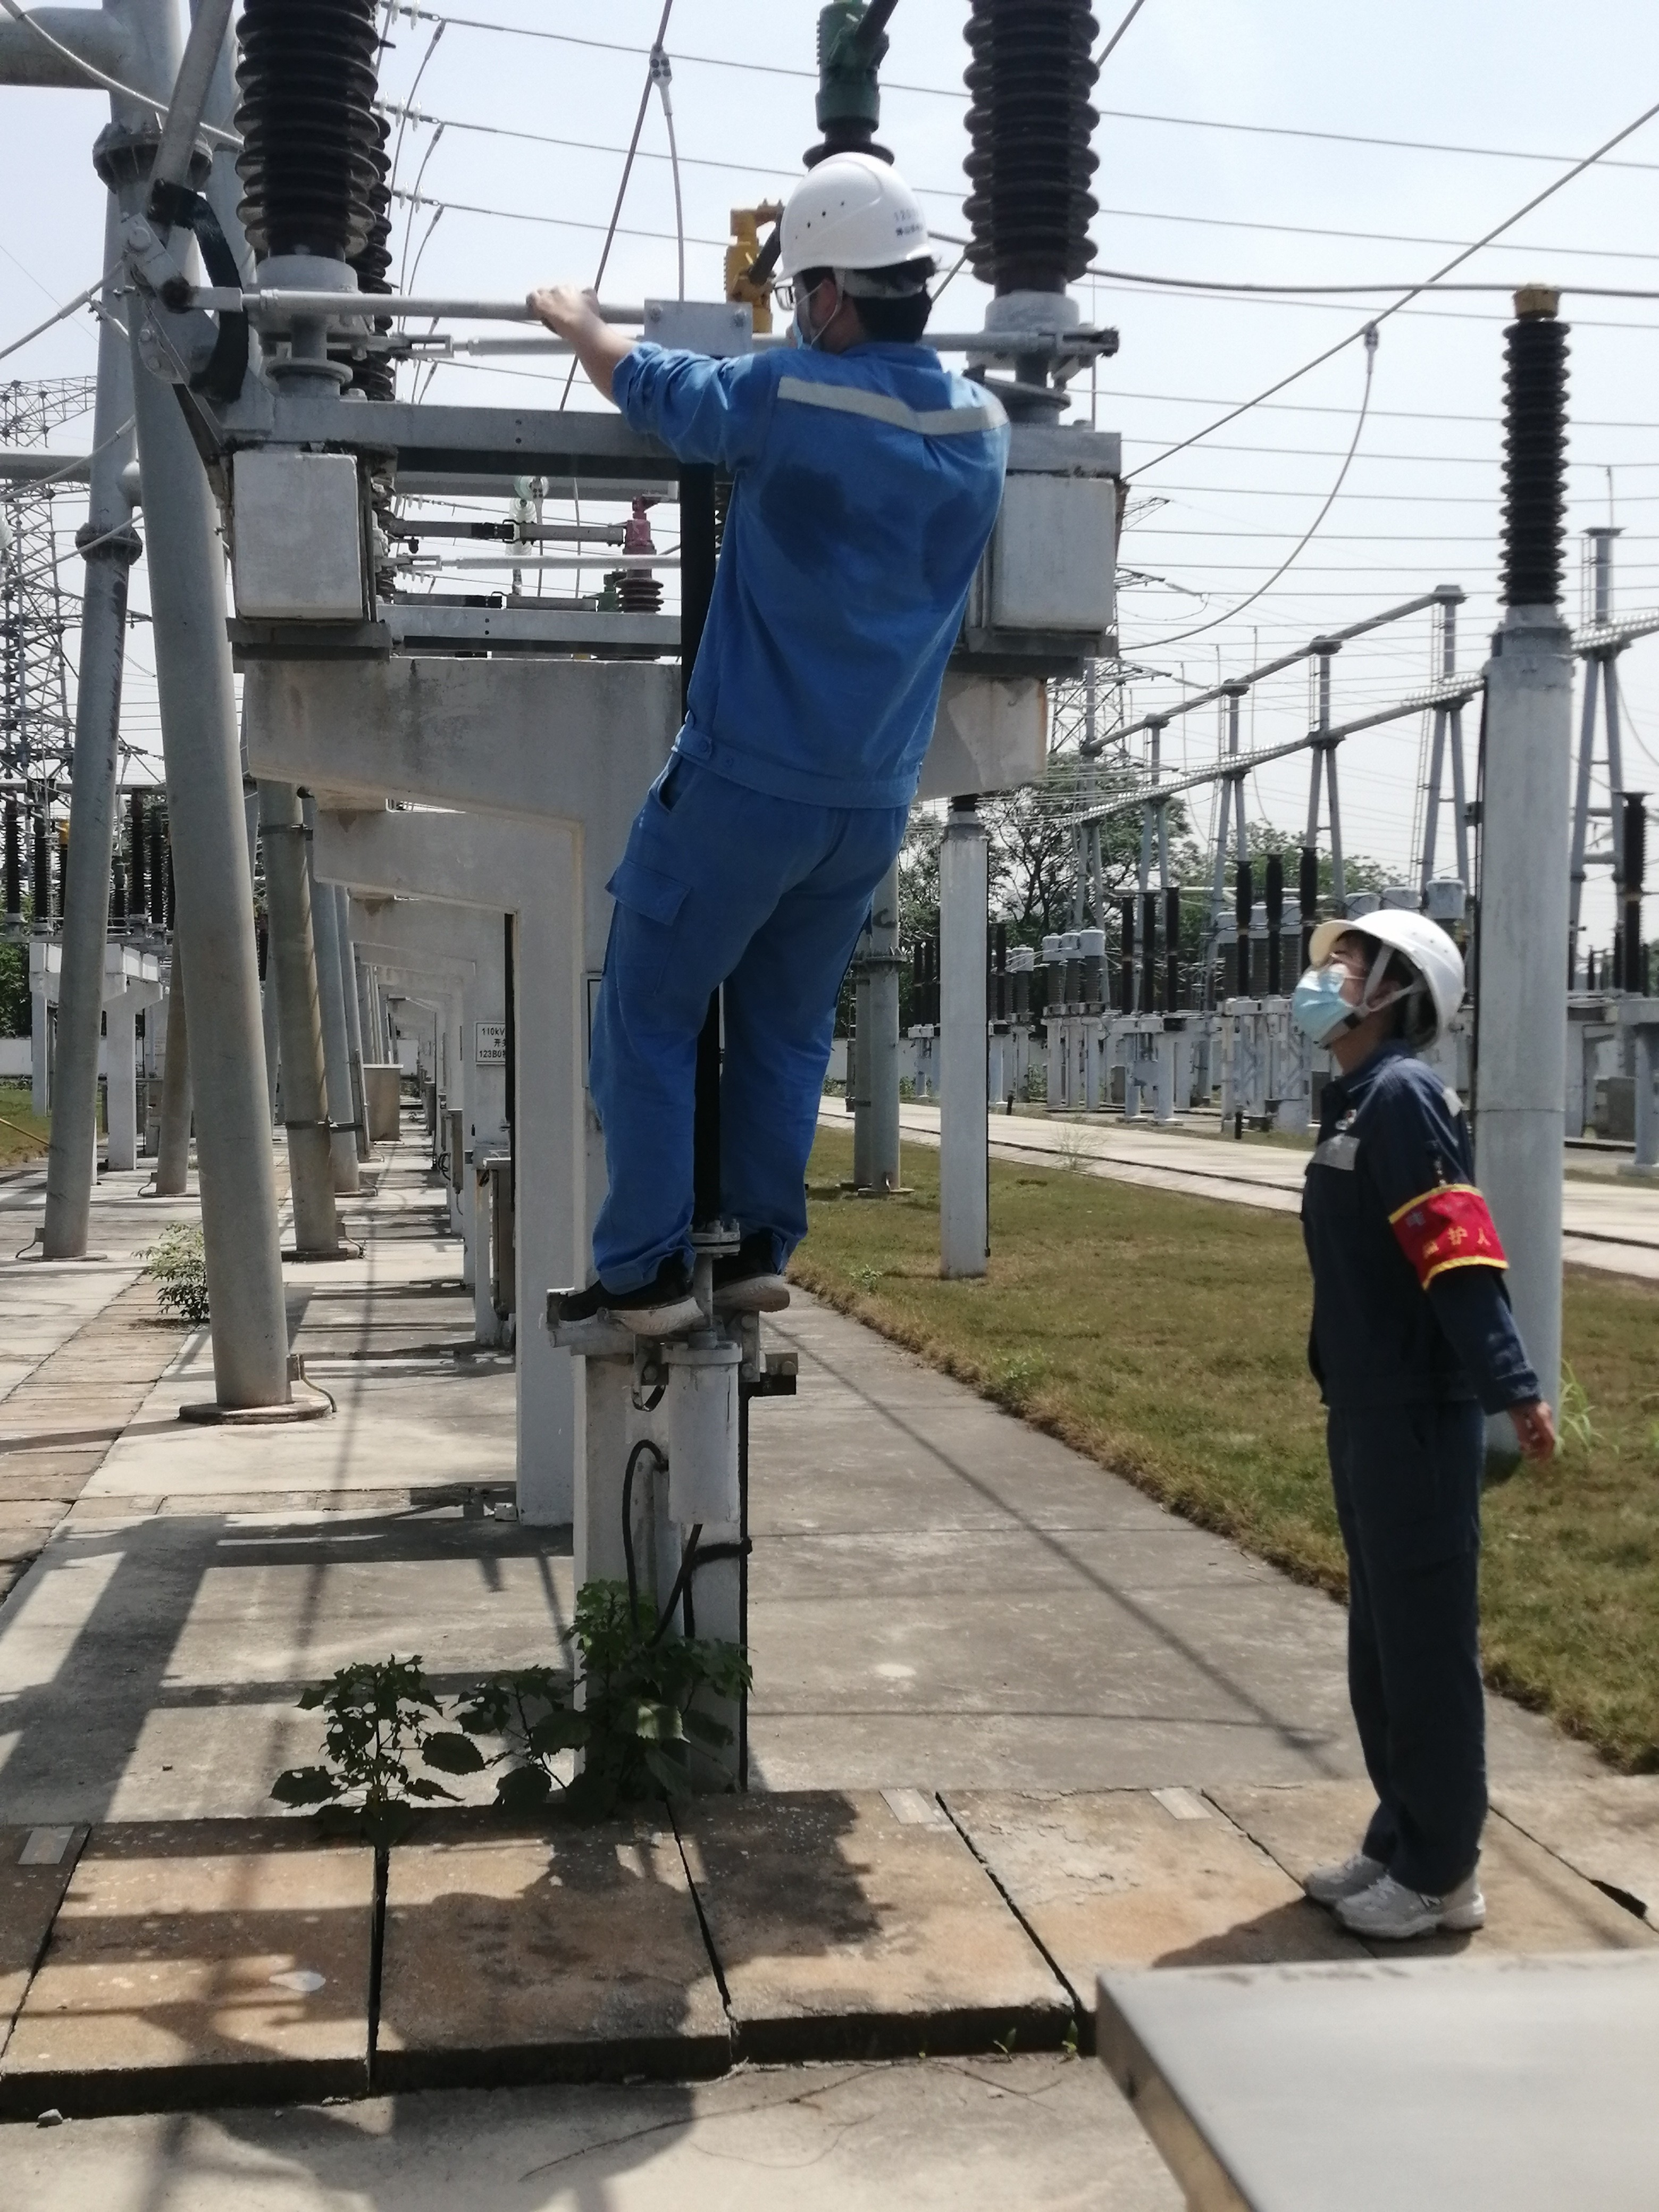downsuit: (579, 826, 915, 1277), (1326, 1423, 1502, 1881)
upsuit: (629, 334, 1014, 794), (1300, 1054, 1523, 1407)
wrongtop: (525, 277, 671, 418)
